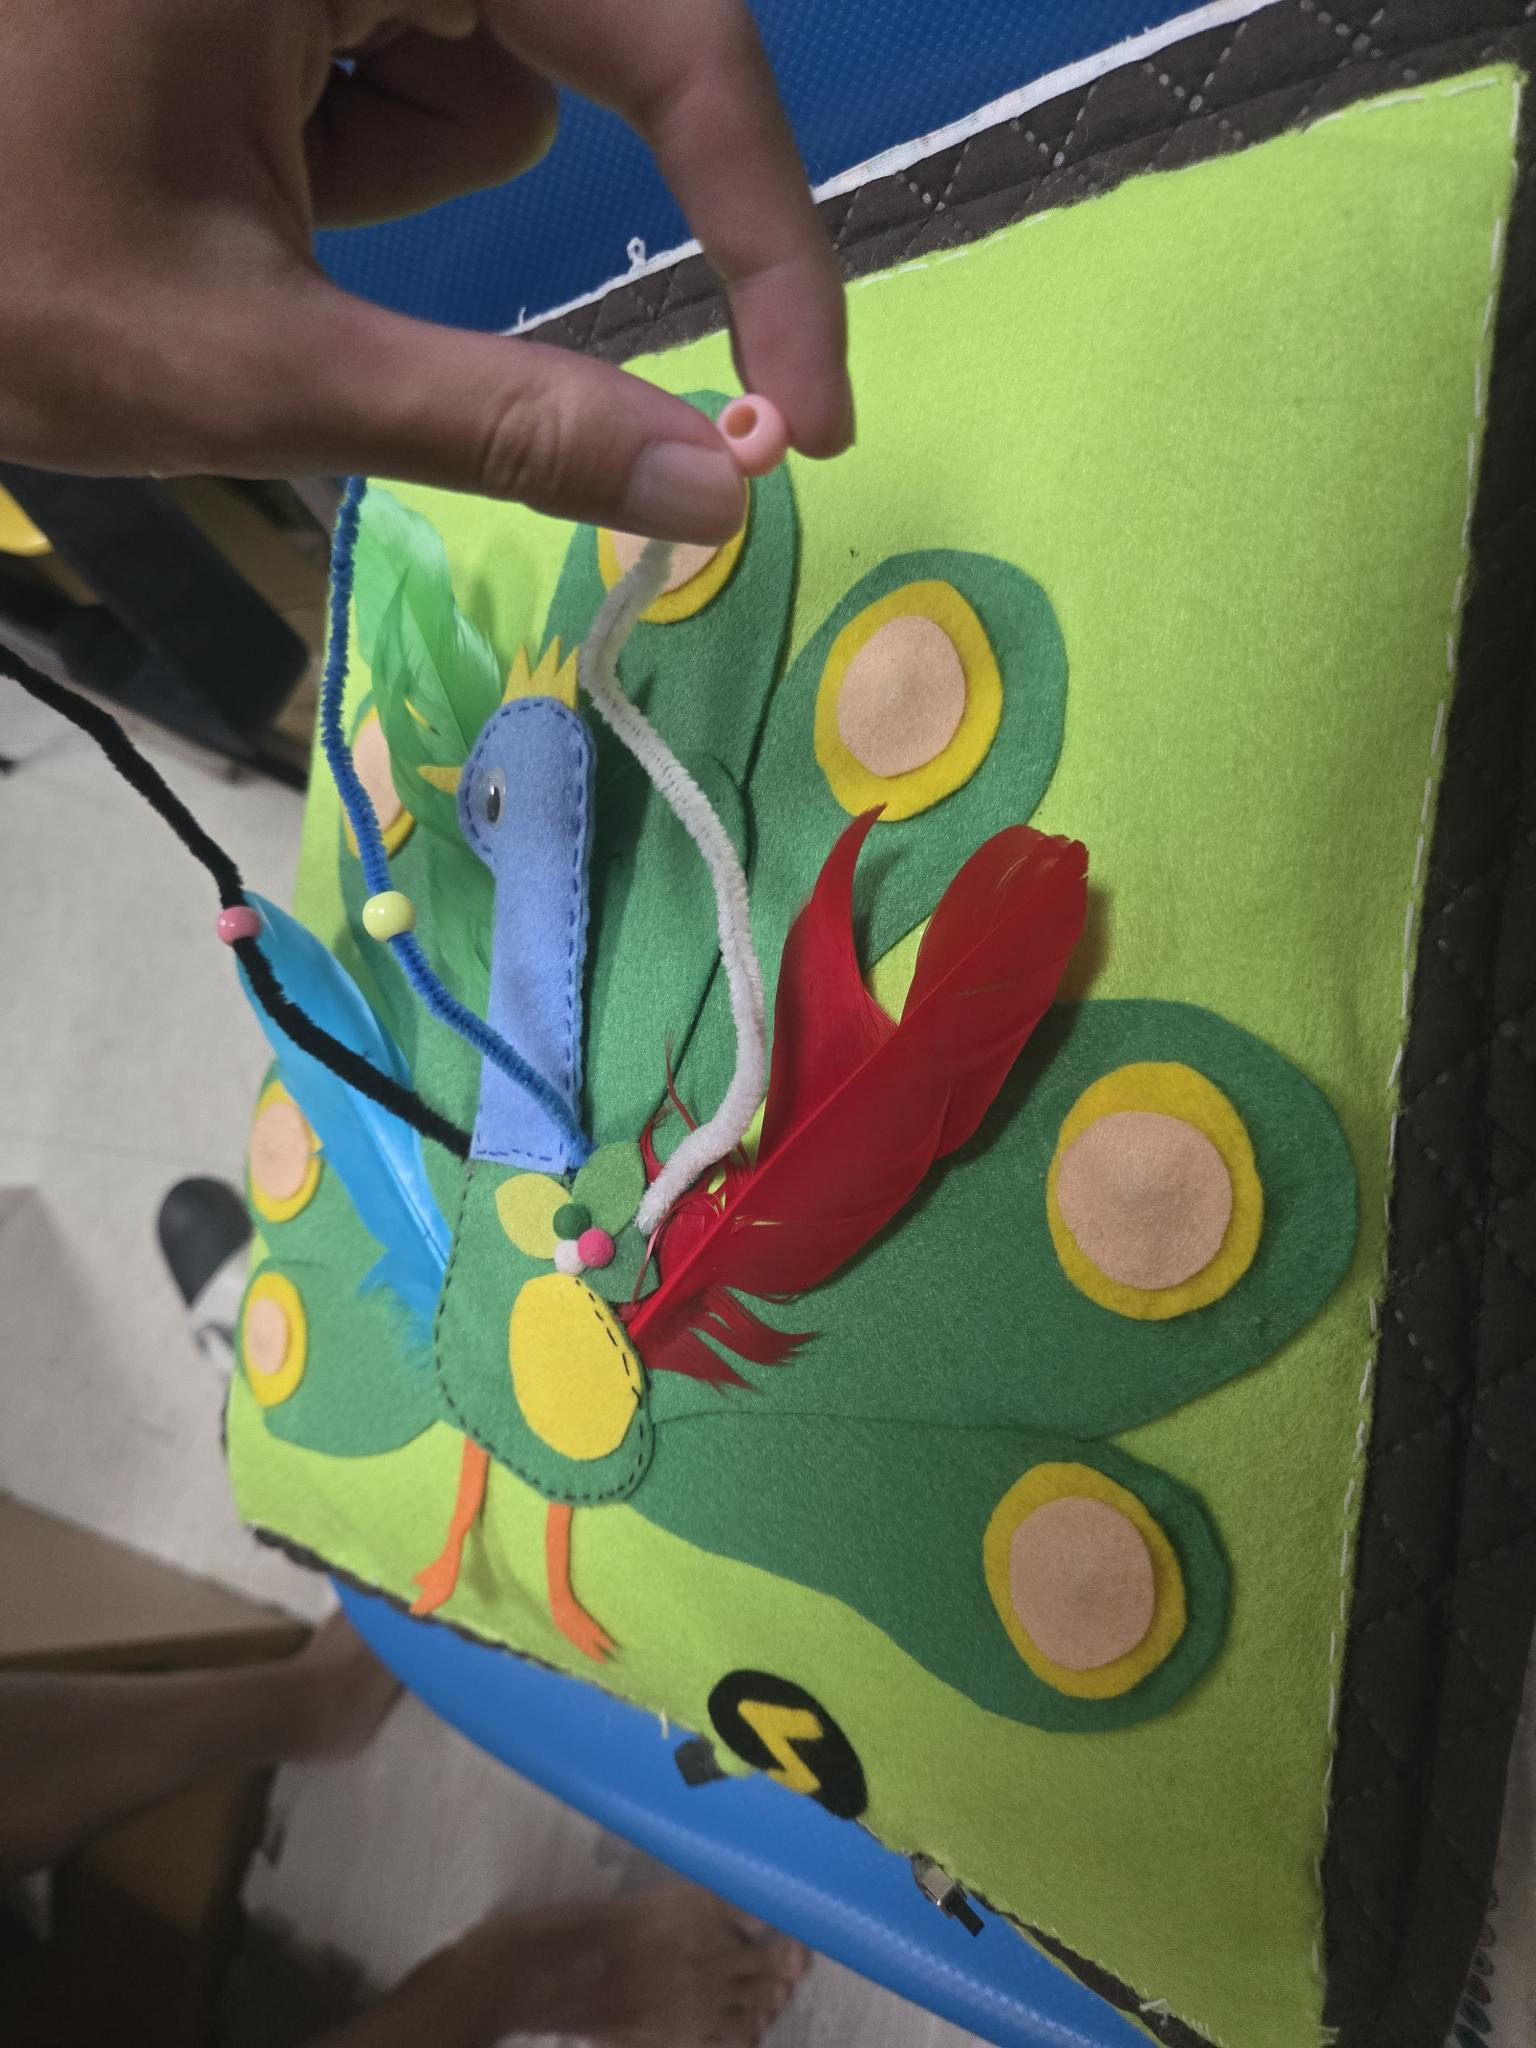bead: (676, 355, 826, 498), (344, 871, 415, 961), (195, 892, 268, 959)
